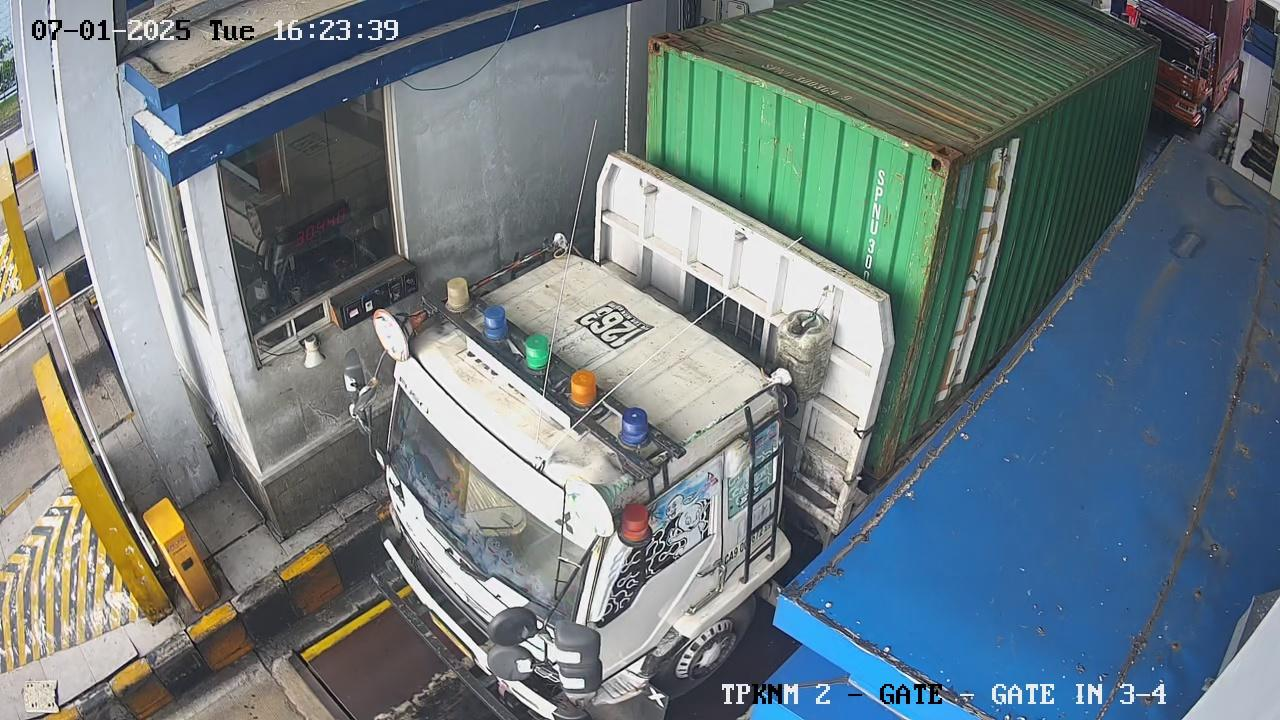Container_ID_Vertikal: (857, 168, 890, 280)
truck_id: (555, 272, 687, 372)
